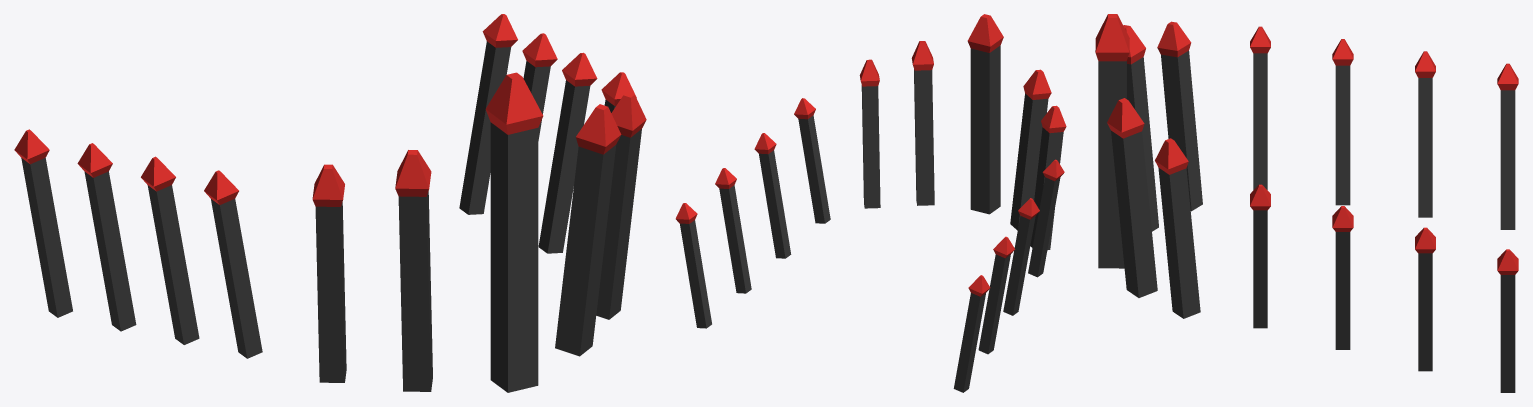
The model's file is SpikesLevel1.fbx.
3 views of the same model, side by side, from view 1: azimuth 30°, elevation 25°; view 2: azimuth 150°, elevation 25°; view 3: azimuth 270°, elevation 25° (orthographic). The views are drawn at different scales.
Visible parts, largest first — view 1: Cube.003; view 2: Cube.003; view 3: Cube.003.
Boxes of the visible parts, x1,y1,x2,y2 form: Cube.003: (14,14,646,392); Cube.003: (675,14,1066,392); Cube.003: (1095,14,1518,392).
Bounding box in the file's own units: 149 × 106 × 139.
